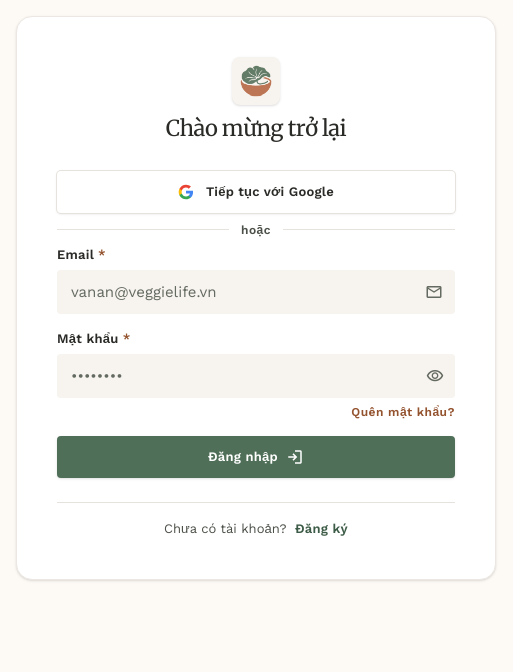
Test: LoginPage (SCR-01) › 403 ERR_AUTH_ACCOUNT_BANNED hiển thị thông báo tài khoản bị cấm
Type "banned@veggielife.vn" into the field labelled "Email *" at [256, 292], box [57,270,455,314]
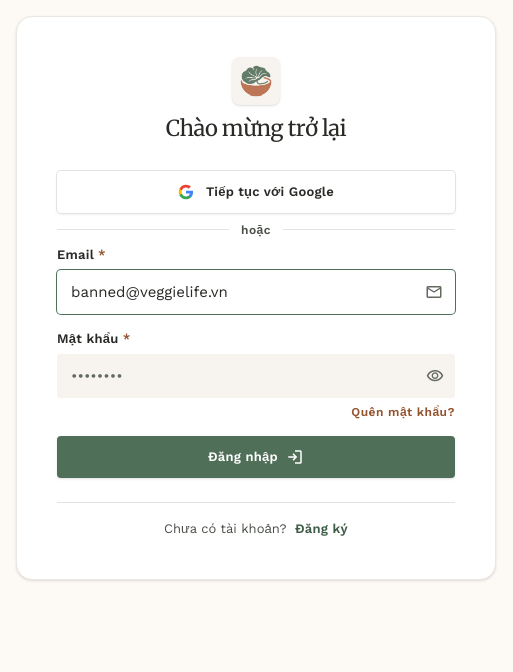
Type "Veggie@2026" into the password field labelled "Mật khẩu *" at [256, 376], box [57,354,455,398]
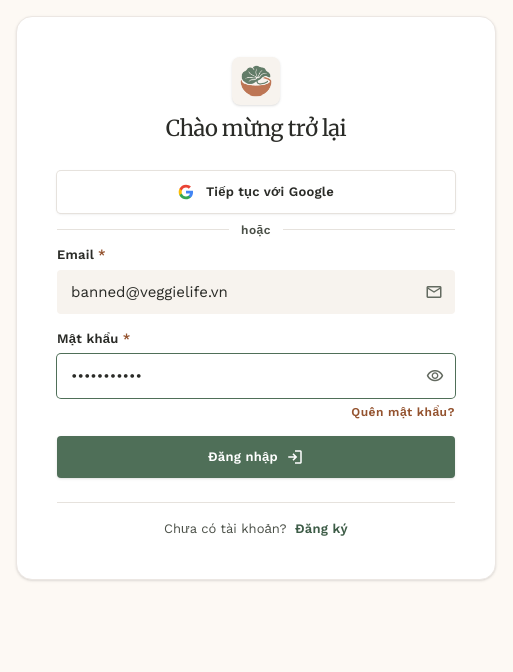
Click the button "Đăng nhập" at [256, 457], box [57,436,455,478]
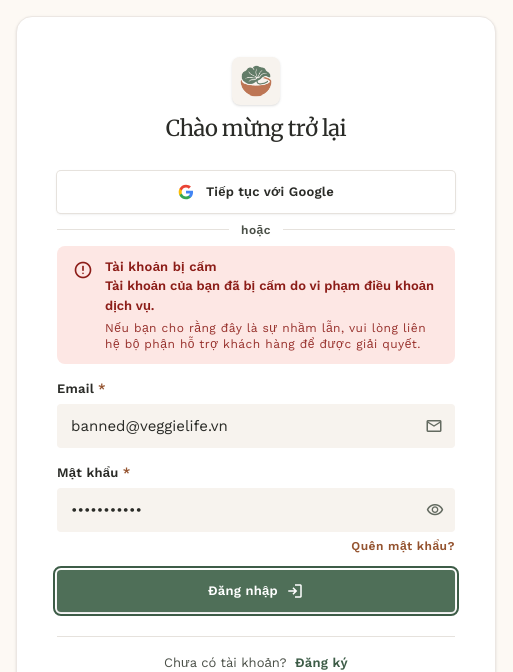
Check: the text "Tài khoản bị cấm" is shown, box [105,259,217,274]
Check: the text "Tài khoản của bạn đã bị cấm do vi phạm điều khoản dịch vụ." is shown, box [105,276,439,316]
